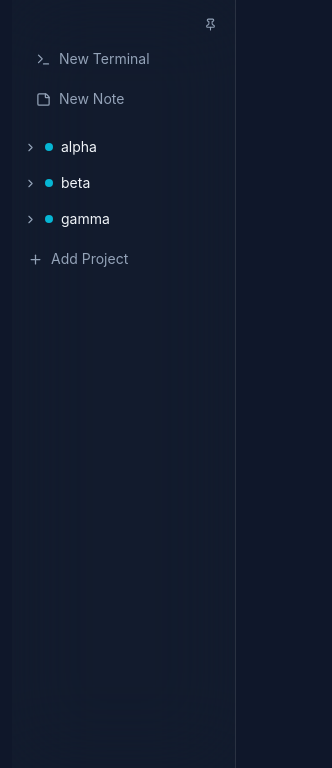
it: Sidebar project reordering › disables Move up on the first project and Move down on the last
Right-click the button "alpha".
right_click(96, 147)  # box [20,129,171,165]
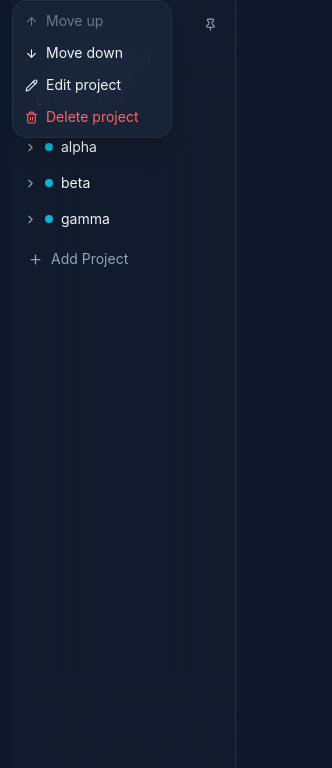
Check: the button "Move up" is disabled, box [13,5,171,37]
Check: the button "Move down" is enabled, box [13,37,171,69]
Press Escape
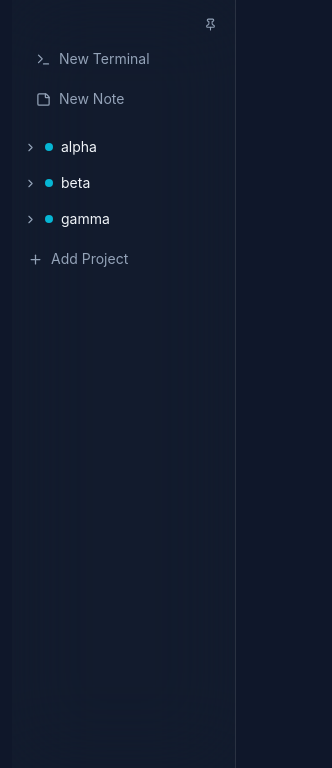
Right-click the button "gamma".
right_click(96, 219)  # box [20,201,171,237]
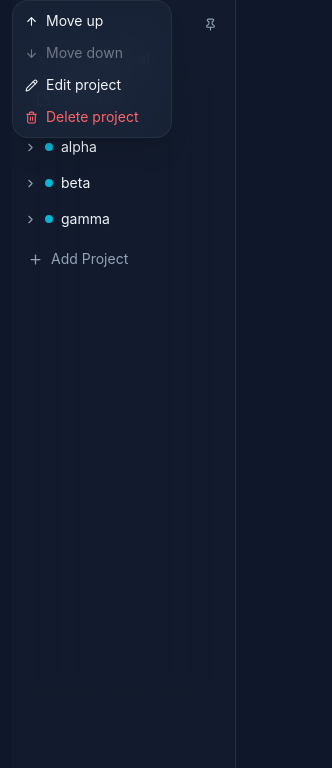
Check: the button "Move down" is disabled, box [13,37,171,69]
Check: the button "Move up" is enabled, box [13,5,171,37]
